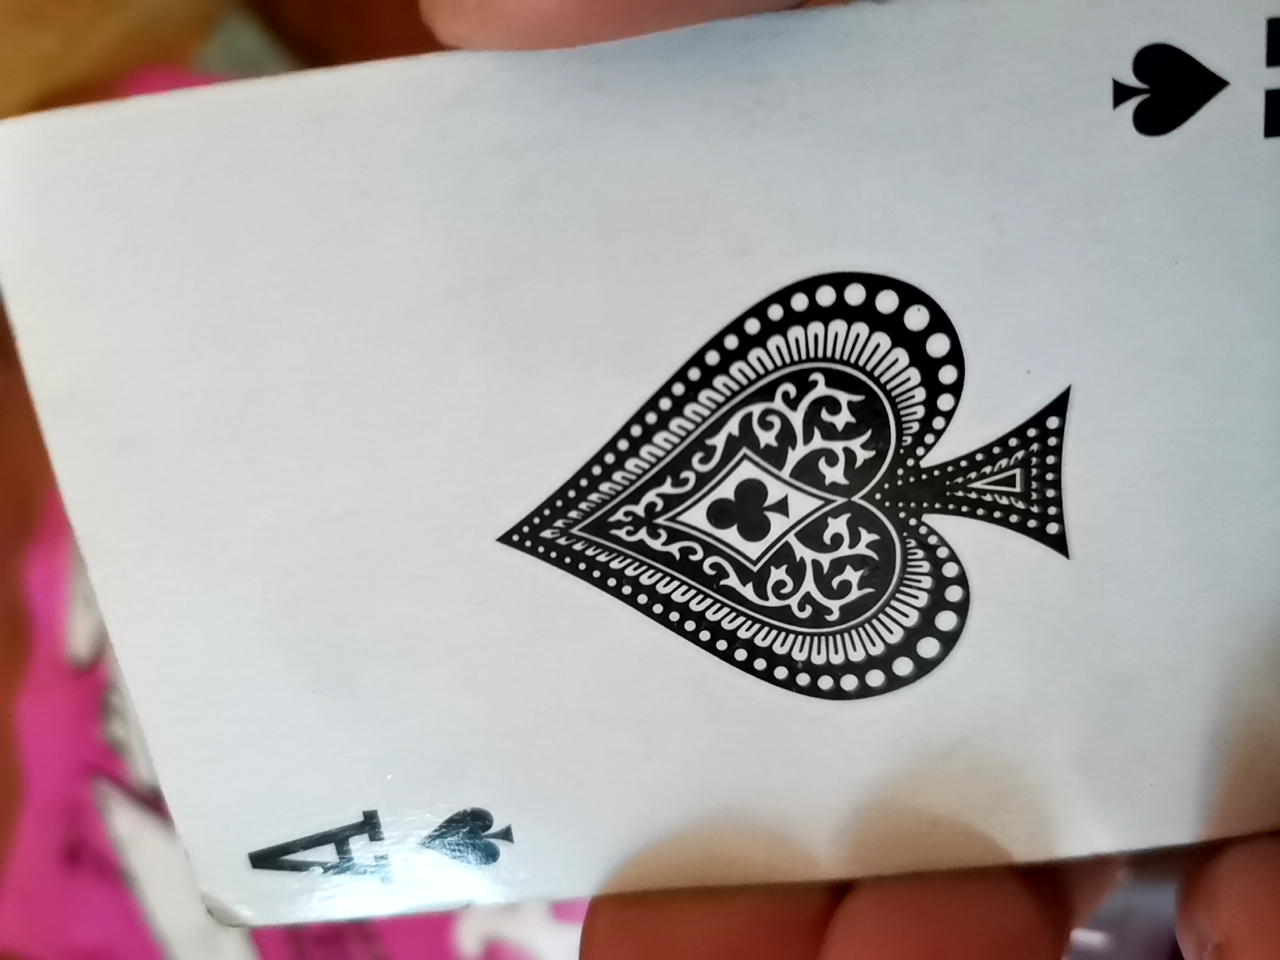ht a: (1, 7, 1270, 948)
